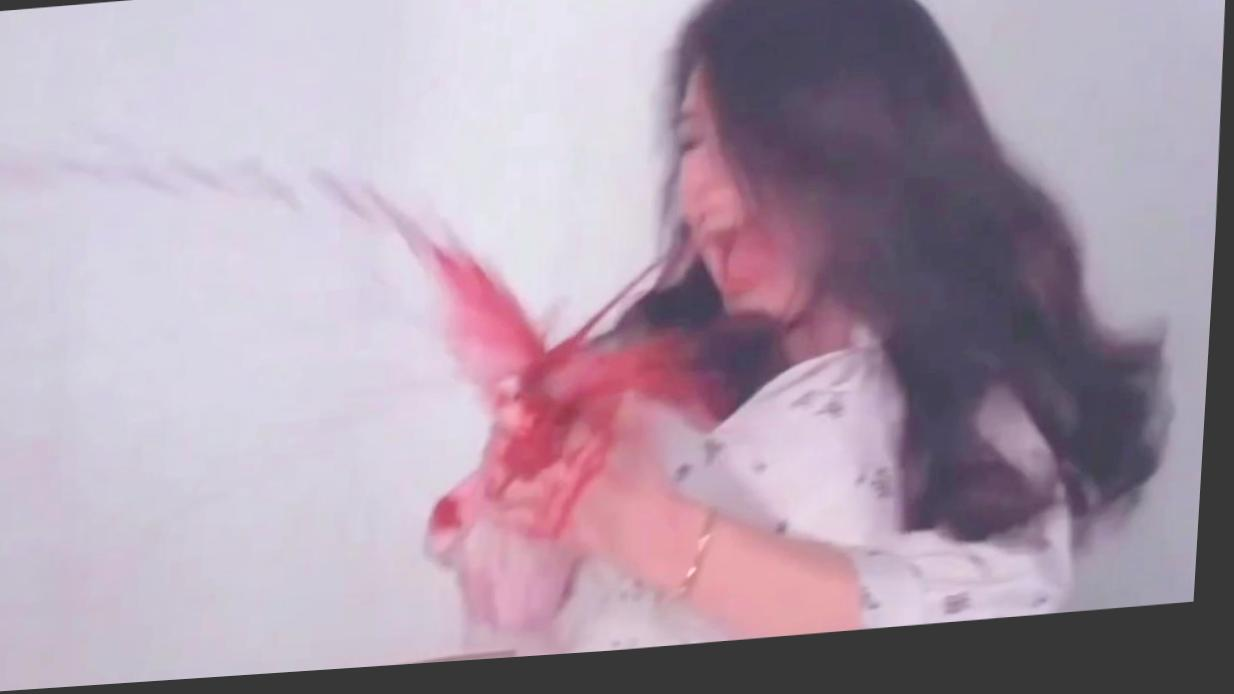Fire: (319, 176, 732, 562)
